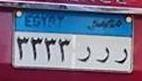3: (57, 37, 72, 65), (44, 35, 57, 62), (30, 36, 43, 63), (16, 35, 29, 61)
raa: (76, 43, 92, 65), (113, 46, 129, 67), (94, 46, 111, 64)
